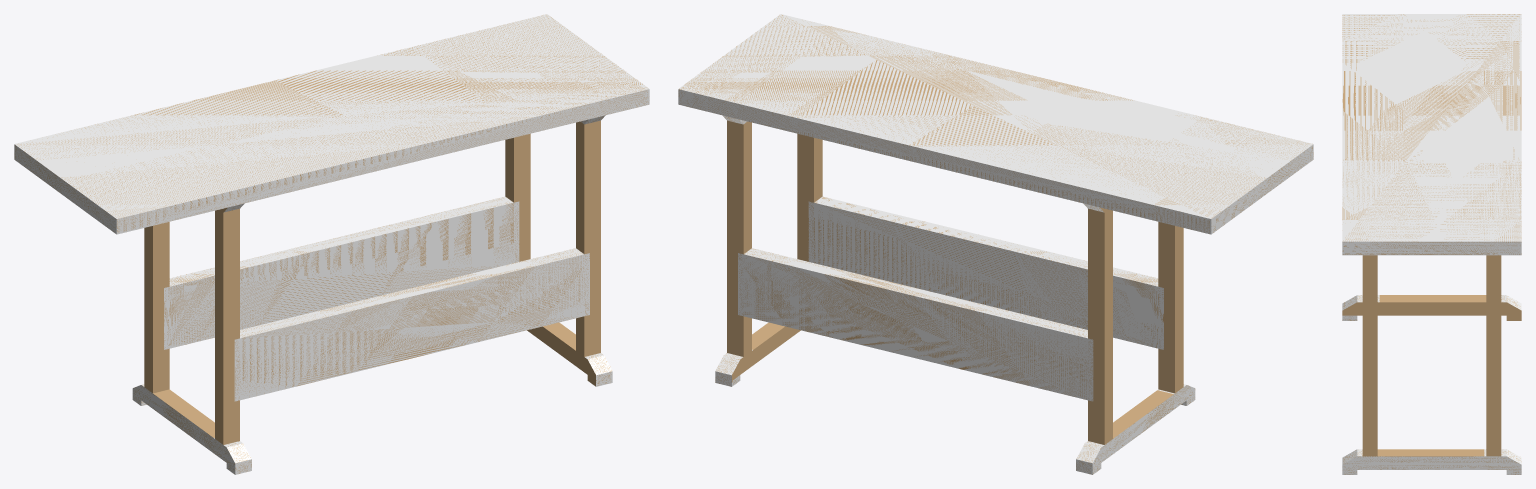
3 renders of one model, left to right at view 1: azimuth 30°, elevation 25°; view 2: azimuth 150°, elevation 25°; view 3: azimuth 270°, elevation 25°, orthographic. The views are drawn at different scales.
Parts seen in each view (by area): view 1: mesh1_mesh1-geometry; view 2: mesh1_mesh1-geometry; view 3: mesh1_mesh1-geometry.
Boxes of the visible parts, x1=… form: mesh1_mesh1-geometry: x1=14, y1=14, x2=649, y2=474; mesh1_mesh1-geometry: x1=678, y1=14, x2=1313, y2=474; mesh1_mesh1-geometry: x1=1342, y1=14, x2=1521, y2=474.
Bounding box in the file's own units: 0.8538 × 0.4358 × 0.2846.
